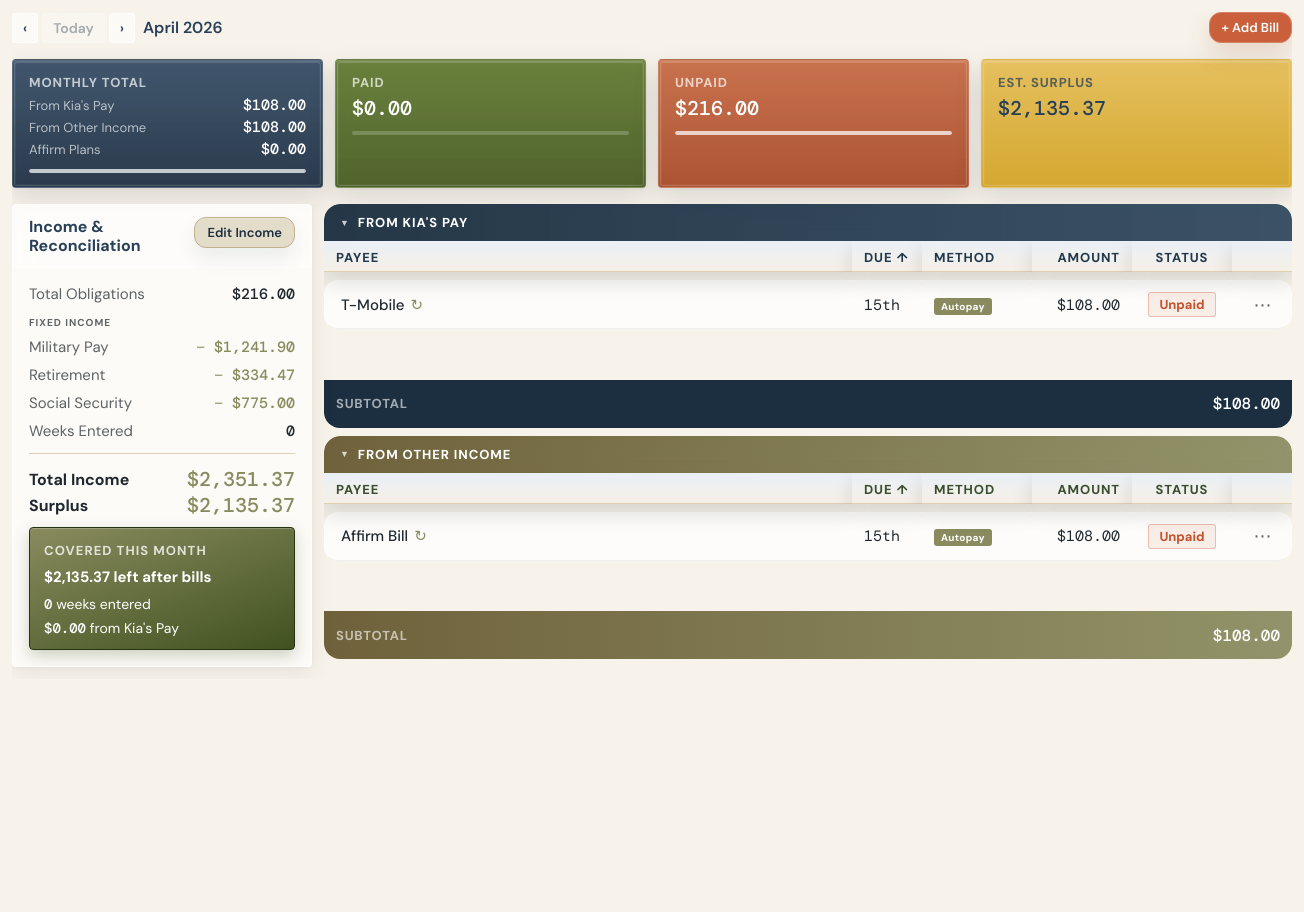
AccountsTab — BillGroup collapse toggle › from Kia-only, clicking Other re-expands both groups
This screenshot has width=1304, height=912.
Click the button "▼ From Other Income": (434, 454) [324,436,1292,472]
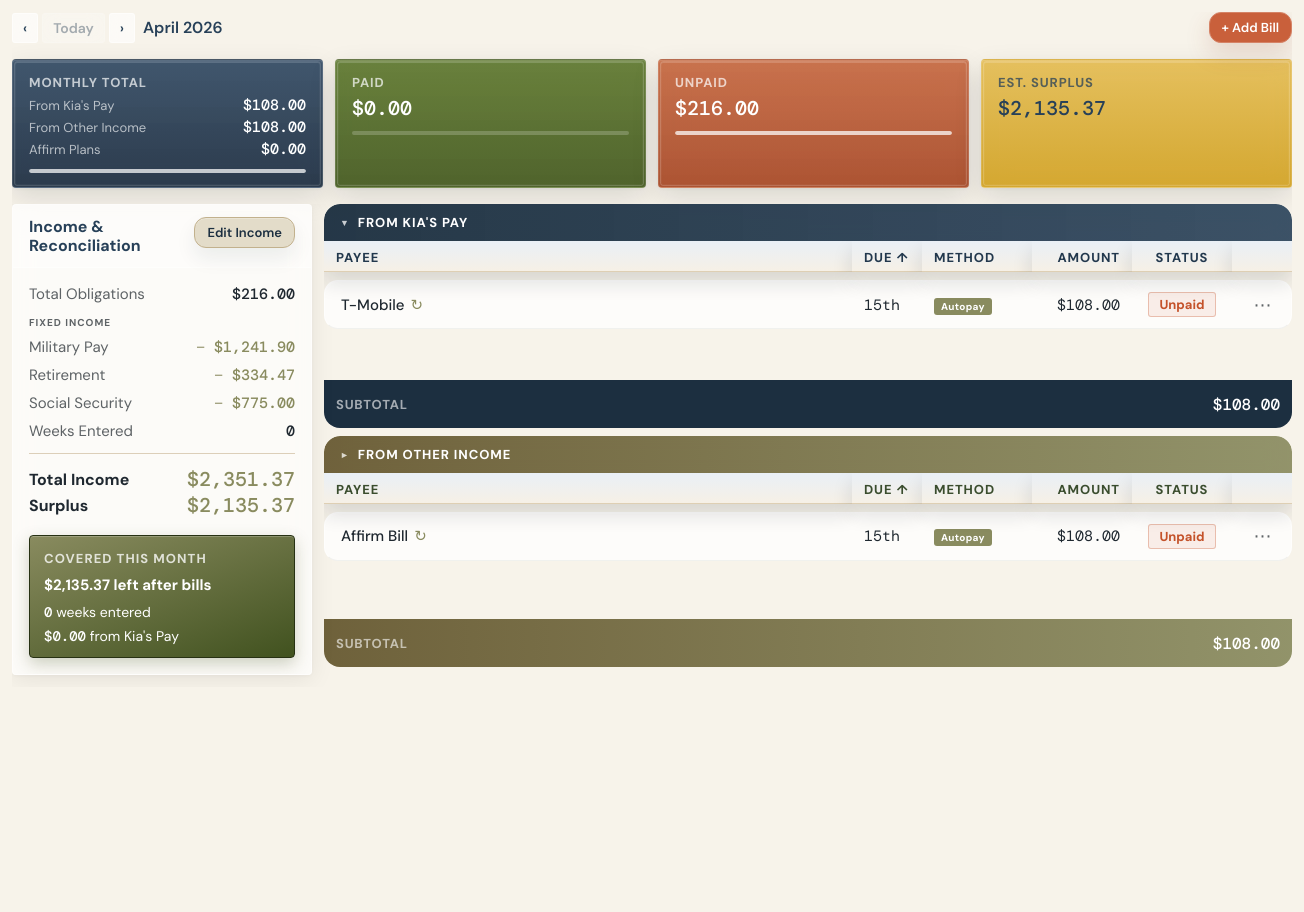
Click the button "► From Other Income": (434, 454) [324,436,1292,473]
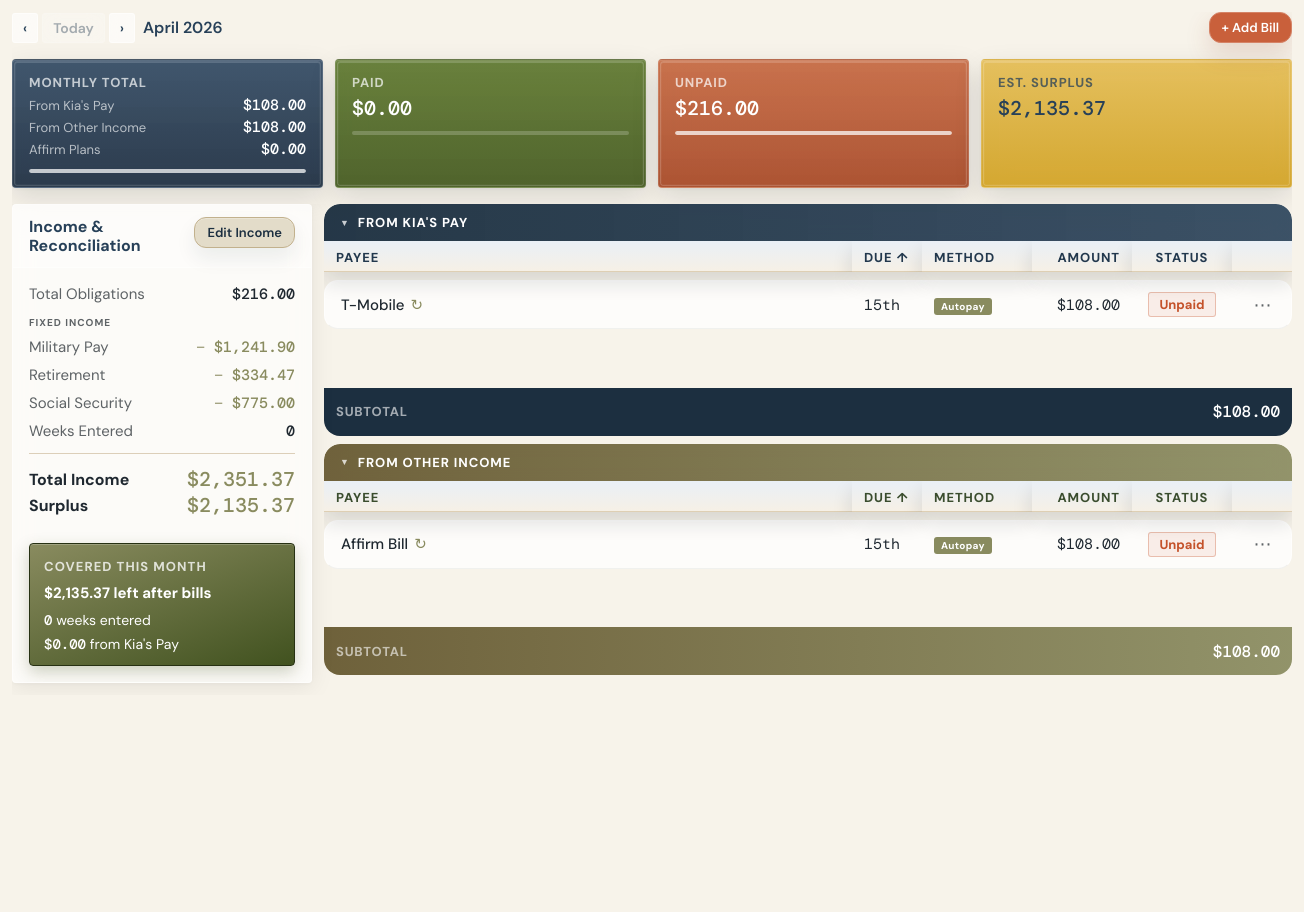
Expected: the button "▼ From Kia's Pay" is shown, [324,204,1292,241]
Now the button "▼ From Other Income" is shown, box [324,444,1292,480]
